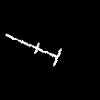double_crochet: (6, 34, 60, 64)
